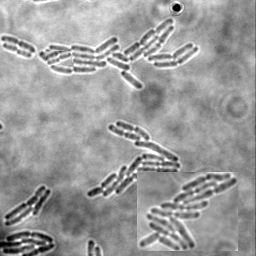Dividing: (1, 34, 37, 52), (3, 41, 33, 57), (46, 51, 72, 65)
Microcolony: (40, 18, 199, 89), (137, 172, 238, 251), (87, 120, 181, 197), (5, 184, 52, 226), (1, 230, 56, 255)
